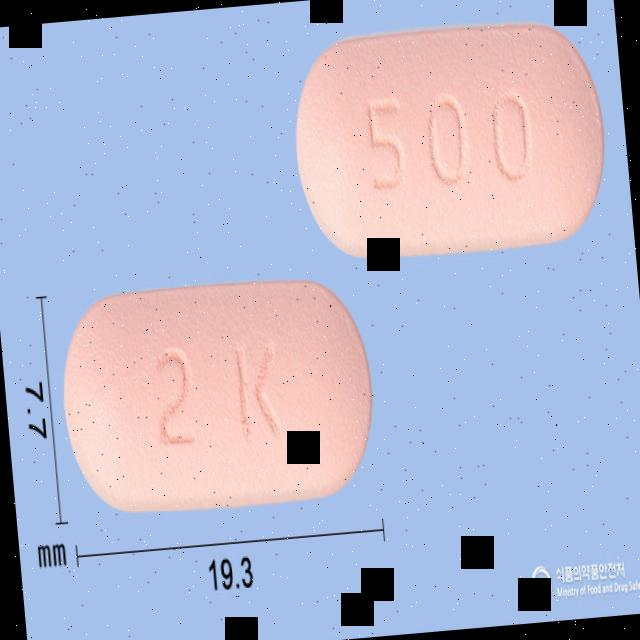Liflocin: (286, 11, 614, 265), (56, 273, 381, 522)
